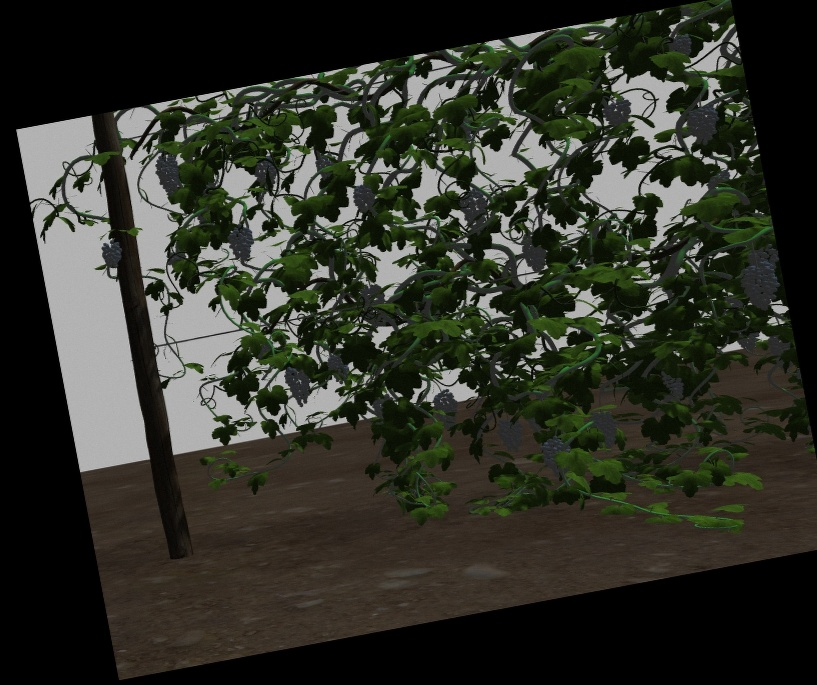grape: (744, 262, 778, 310), (687, 103, 719, 146), (433, 388, 460, 430), (542, 436, 571, 475), (284, 364, 310, 407), (459, 190, 487, 228), (497, 417, 525, 453), (155, 153, 180, 193), (229, 226, 256, 263), (593, 409, 619, 447), (603, 93, 632, 127), (522, 235, 546, 273), (661, 368, 684, 401), (255, 160, 277, 191), (101, 240, 124, 268), (353, 184, 375, 213), (328, 354, 350, 382), (314, 153, 337, 177), (671, 33, 693, 57)
